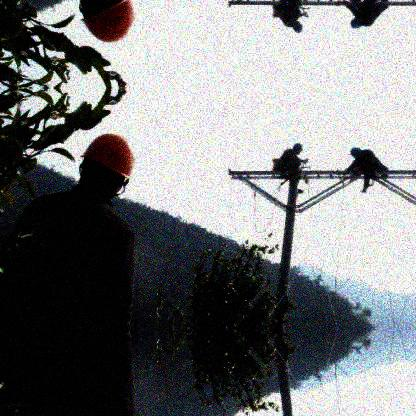helmet: (77, 135, 139, 198), (293, 141, 306, 156), (351, 147, 361, 160)
